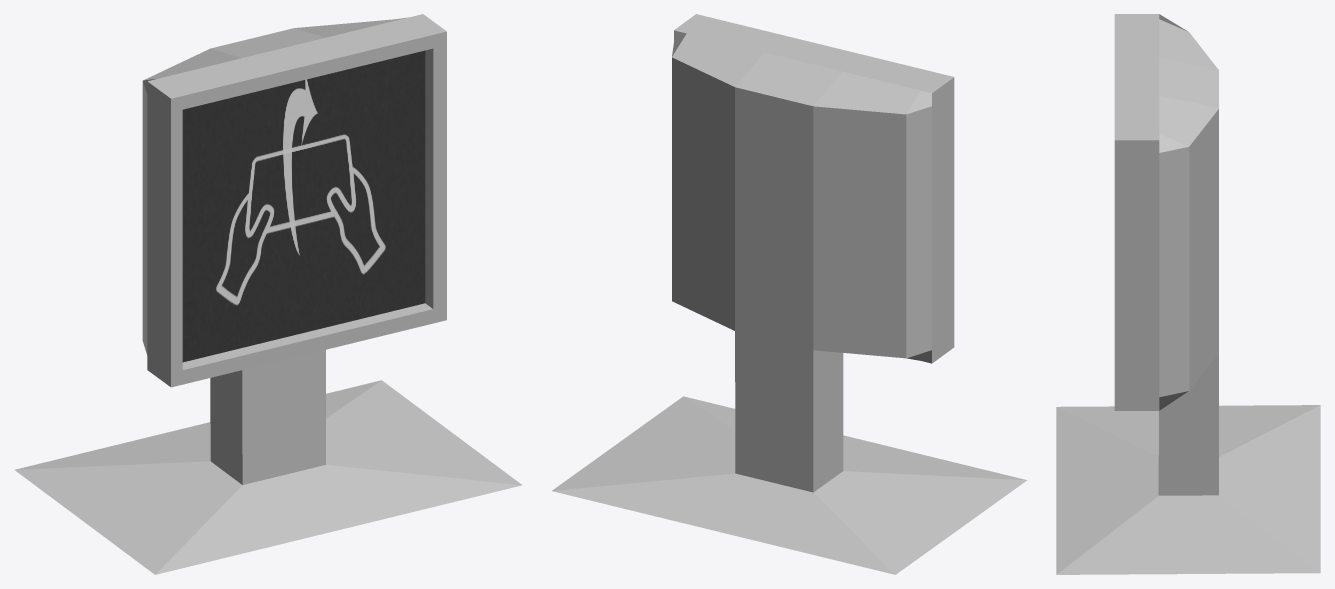
File: ScreenNoRotate.fbx
3 views of the same model, side by side, from view 1: azimuth 30°, elevation 25°; view 2: azimuth 150°, elevation 25°; view 3: azimuth 270°, elevation 25° (orthographic). The views are drawn at different scales.
Visible parts, largest first — view 1: Billboard; view 2: Billboard; view 3: Billboard.
Boxes of the visible parts, <box> form: Billboard: <box>14,14,522,574</box>; Billboard: <box>552,14,1026,574</box>; Billboard: <box>1056,14,1320,574</box>.
Bounding box in the file's own units: 266 × 306 × 177.
